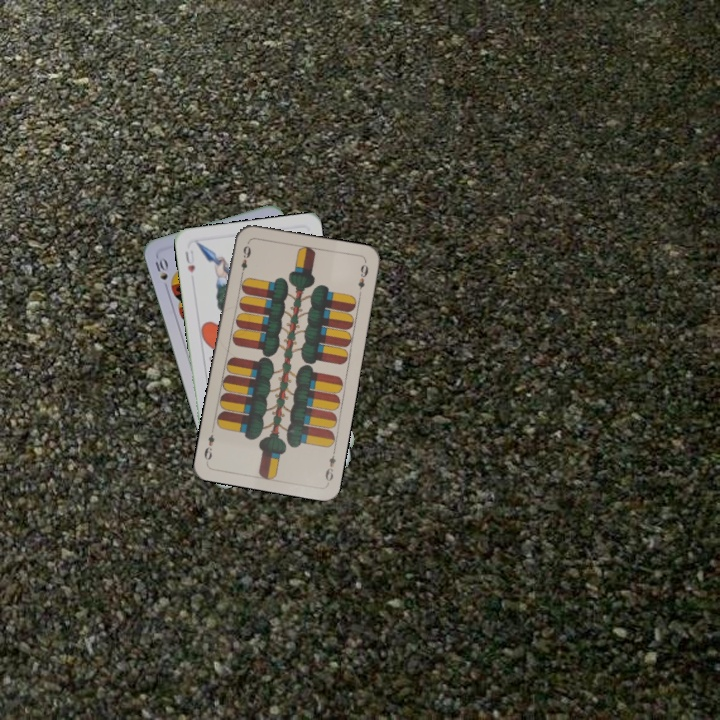E9: (321, 445, 338, 484), (237, 242, 253, 279)
HU: (181, 246, 197, 275)
S10: (151, 254, 171, 293)
